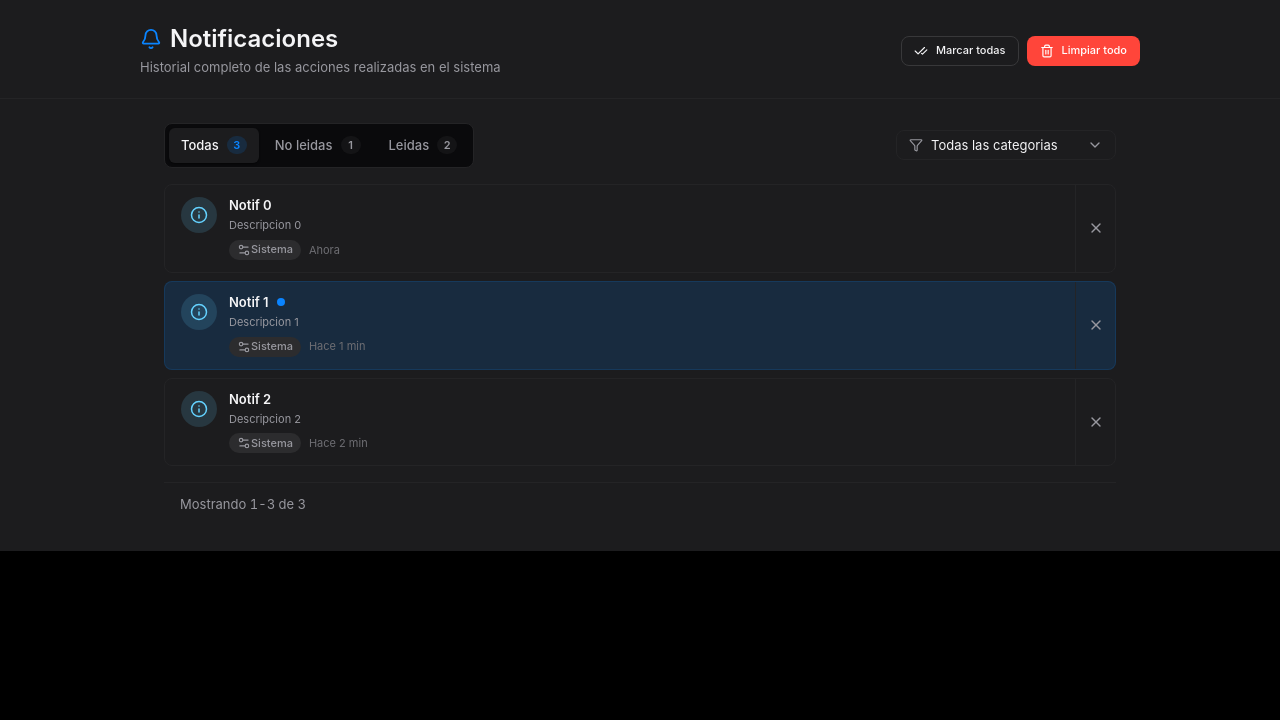
Test: Notifications page › filters by read tab
The image size is (1280, 720).
Click the tab "Leidas 2" at (423, 145), box left=376, top=128, right=469, bottom=163
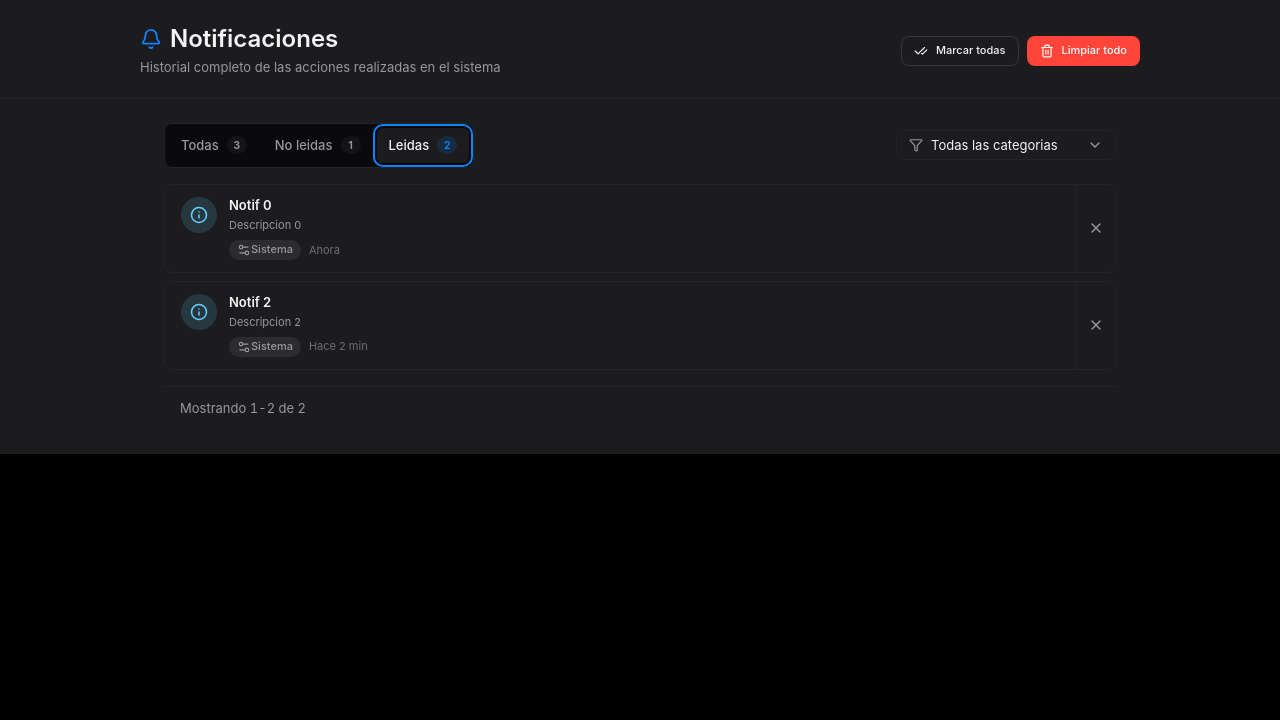
Expected: the text "Notif 0" is shown, left=229, top=197, right=272, bottom=213
Expected: the button "Notif 1" is gone
